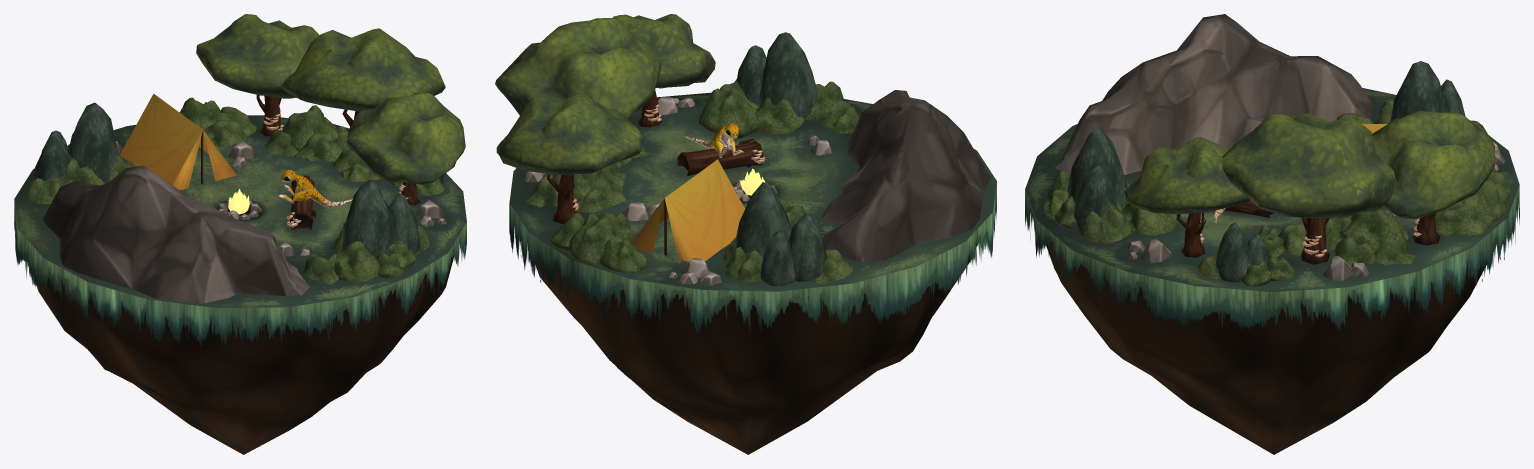
Rendered from gecko.glb.
3 renders of one model, left to right at view 1: azimuth 30°, elevation 25°; view 2: azimuth 150°, elevation 25°; view 3: azimuth 270°, elevation 25°, orthographic. The views are drawn at different scales.
Parts seen in each view (by area): view 1: ground2, underground, treetop1 (×3), bigrock, tent1, bush_pointy9, bush_pointy10, treetop28, treetop33, bush_pointy11, bush_pointy8, monster1 (+12 smaller); view 2: ground2, underground, treetop1 (×3), bigrock, tent1, bush_pointy9, bush_pointy10, treetop27, bush_pointy11, treetop38, trunk, bush_pointy12 (+13 smaller); view 3: underground, treetop1 (×3), ground2, bigrock, bush_pointy9, bush_pointy10, bush_pointy8, treetop33, bush_pointy7, treetop47, treetop31, treetop27 (+13 smaller).
Part boxes in pixels (<box>): ground2: <box>14,115,466,346</box>; underground: <box>36,255,453,454</box>; treetop1 (×3): <box>196,14,465,184</box>; bigrock: <box>43,165,310,303</box>; tent1: <box>120,93,236,190</box>; bush_pointy9: <box>341,180,395,258</box>; bush_pointy10: <box>68,102,118,183</box>; treetop28: <box>331,241,379,282</box>; treetop33: <box>282,105,338,151</box>; bush_pointy11: <box>33,132,71,180</box>; bush_pointy8: <box>389,192,420,254</box>; monster1: <box>279,169,352,207</box>; ground2: <box>509,92,996,334</box>; underground: <box>535,241,978,454</box>; treetop1 (×3): <box>495,14,715,174</box>; bigrock: <box>821,90,990,262</box>; tent1: <box>631,159,744,261</box>; bush_pointy9: <box>759,32,817,118</box>; bush_pointy10: <box>735,182,791,257</box>; treetop27: <box>699,88,758,138</box>; bush_pointy11: <box>788,213,827,281</box>; treetop38: <box>569,213,628,264</box>; trunk: <box>677,138,763,175</box>; bush_pointy12: <box>760,231,794,285</box>; underground: <box>1046,240,1486,454</box>; treetop1 (×3): <box>1124,110,1495,218</box>; ground2: <box>1025,88,1519,330</box>; bigrock: <box>1055,14,1372,174</box>; bush_pointy9: <box>1067,128,1127,206</box>; bush_pointy10: <box>1390,61,1448,122</box>; bush_pointy8: <box>1074,164,1116,231</box>; treetop33: <box>1340,209,1403,253</box>; bush_pointy7: <box>1215,222,1250,282</box>; treetop47: <box>1435,201,1492,236</box>; treetop31: <box>1077,205,1130,243</box>; treetop27: <box>1121,203,1178,235</box>.
Size of the model in its own units: 12.11 by 10.74 by 11.82.
13 materials, 12 textured.
